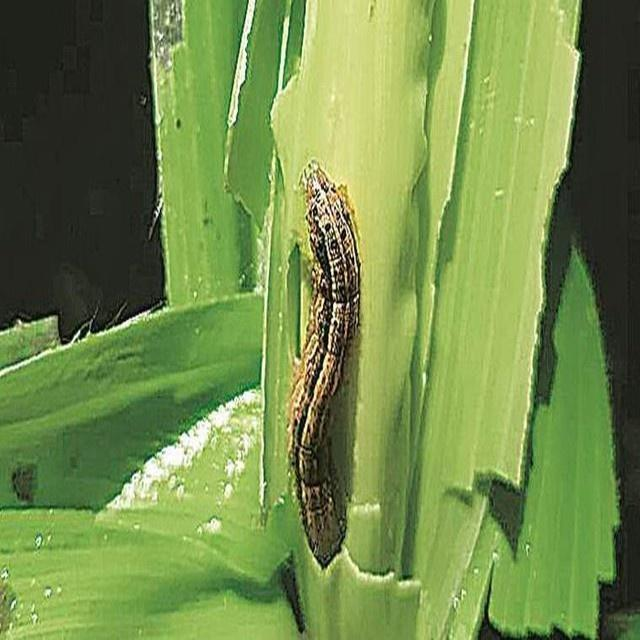gusano_cogollero: (286, 166, 362, 552)
